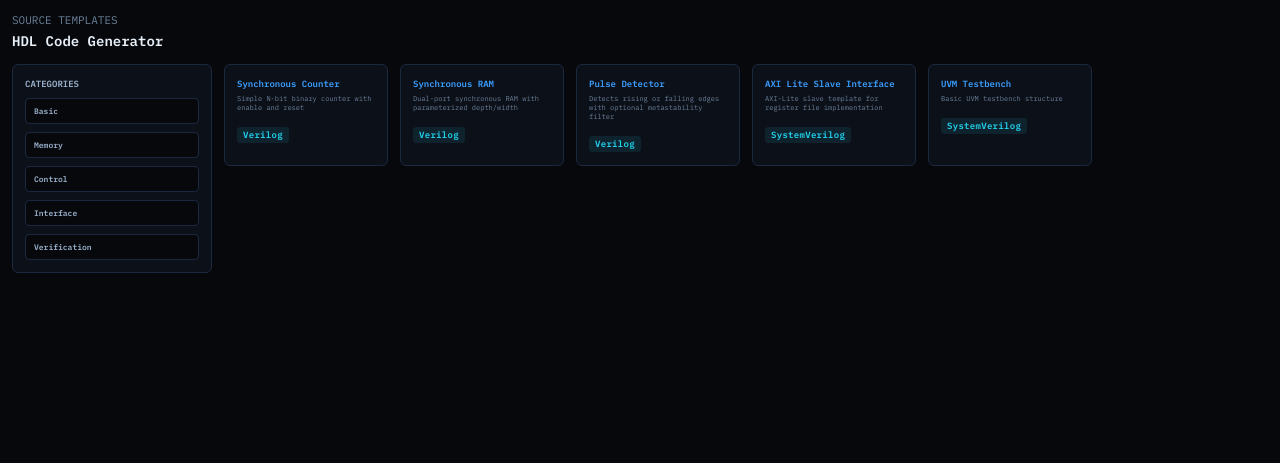
Test case: SourceTemplates › shows parameter form when a template is selected
What coordinates should you click on to do the following:
click the text "Synchronous Counter"
I would click on:
 (288, 83)
Its box is x1=237 y1=78 x2=340 y2=88.
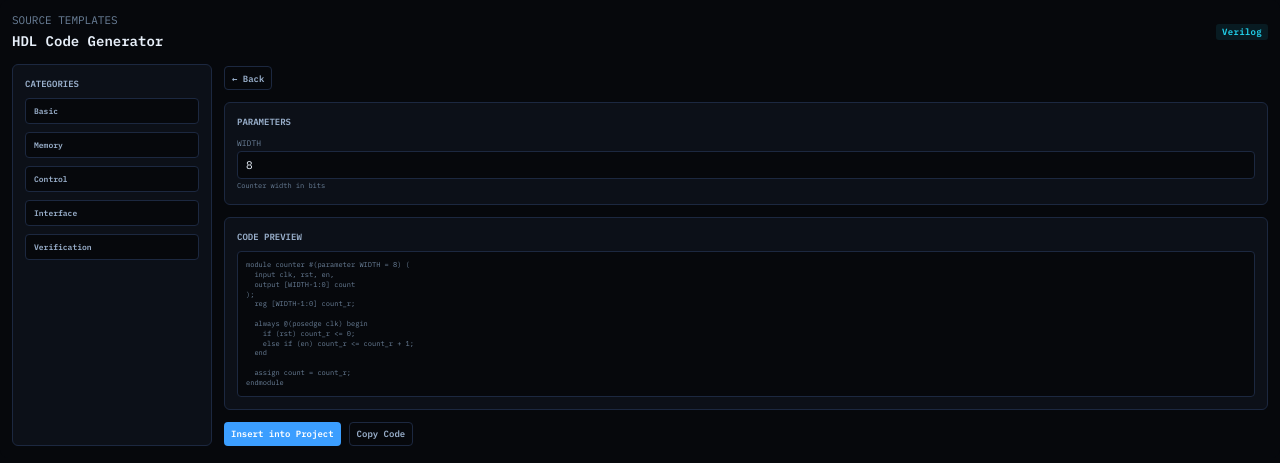
Expected: the text "PARAMETERS" is shown, x1=237 y1=116 x2=291 y2=127
